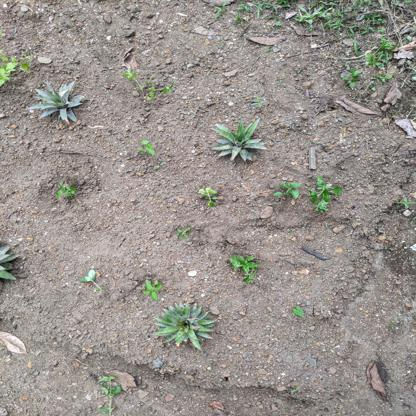pineapple: (153, 299, 221, 351), (210, 118, 270, 167), (27, 80, 92, 125), (1, 238, 24, 294)
weed: (269, 176, 345, 219), (225, 251, 260, 288), (96, 373, 125, 416), (54, 178, 87, 207), (1, 52, 28, 85), (193, 183, 222, 212), (136, 270, 164, 296), (134, 137, 156, 164)
